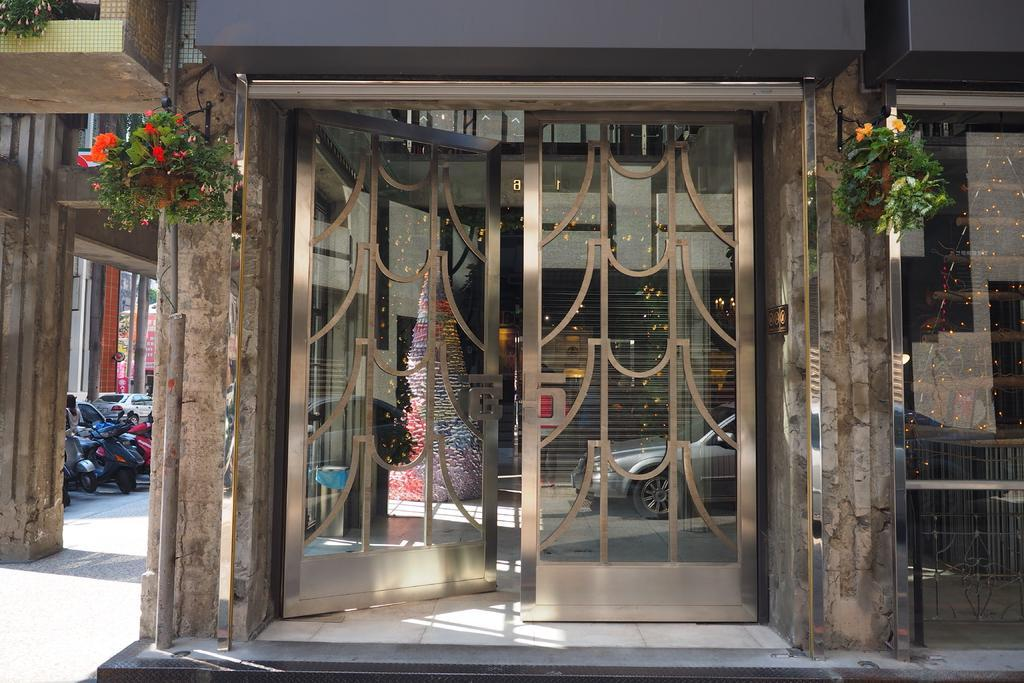door: (526, 123, 752, 614), (301, 149, 493, 605)
handle: (456, 370, 506, 434), (528, 365, 570, 428)
